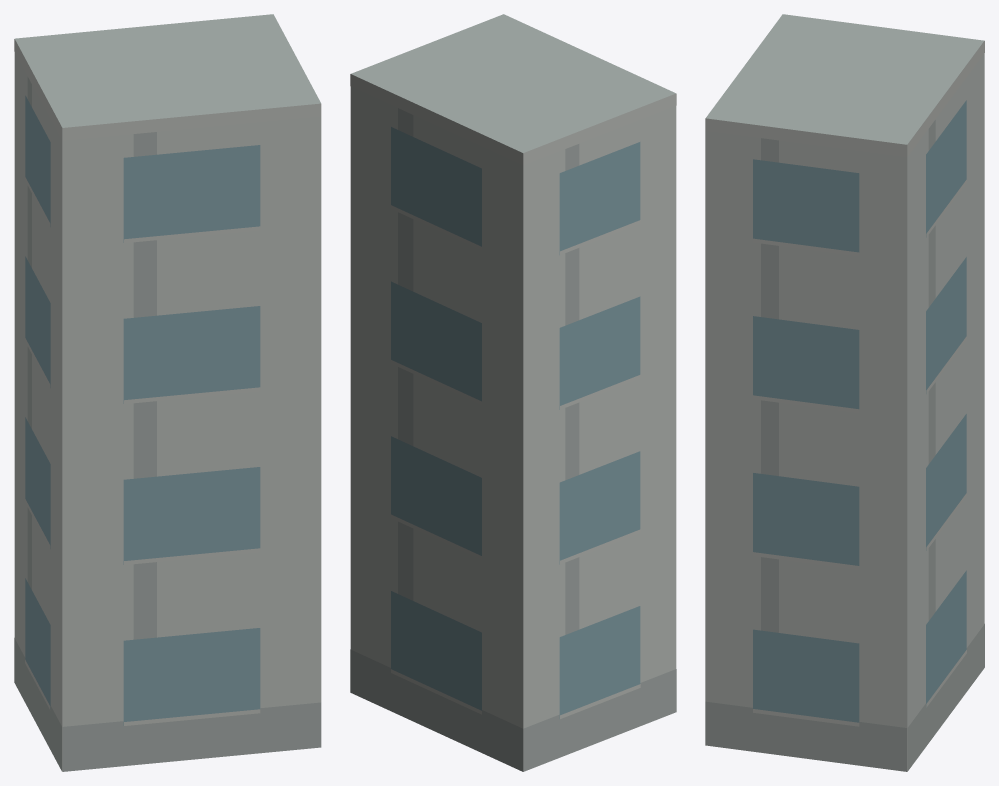
File: survey-upis-33040976.glb
3 views of the same model, side by side, from view 1: azimuth 30°, elevation 25°; view 2: azimuth 150°, elevation 25°; view 3: azimuth 270°, elevation 25° (orthographic). The views are drawn at different scales.
Visible parts, largest first — view 1: survey-upis-33040976.tmp; view 2: survey-upis-33040976.tmp; view 3: survey-upis-33040976.tmp.
Boxes of the visible parts, <box> form: survey-upis-33040976.tmp: <box>14,14,321,771</box>; survey-upis-33040976.tmp: <box>350,14,676,771</box>; survey-upis-33040976.tmp: <box>705,14,984,771</box>.
Size of the model in its own units: 5.46 by 12.2 by 4.93.
